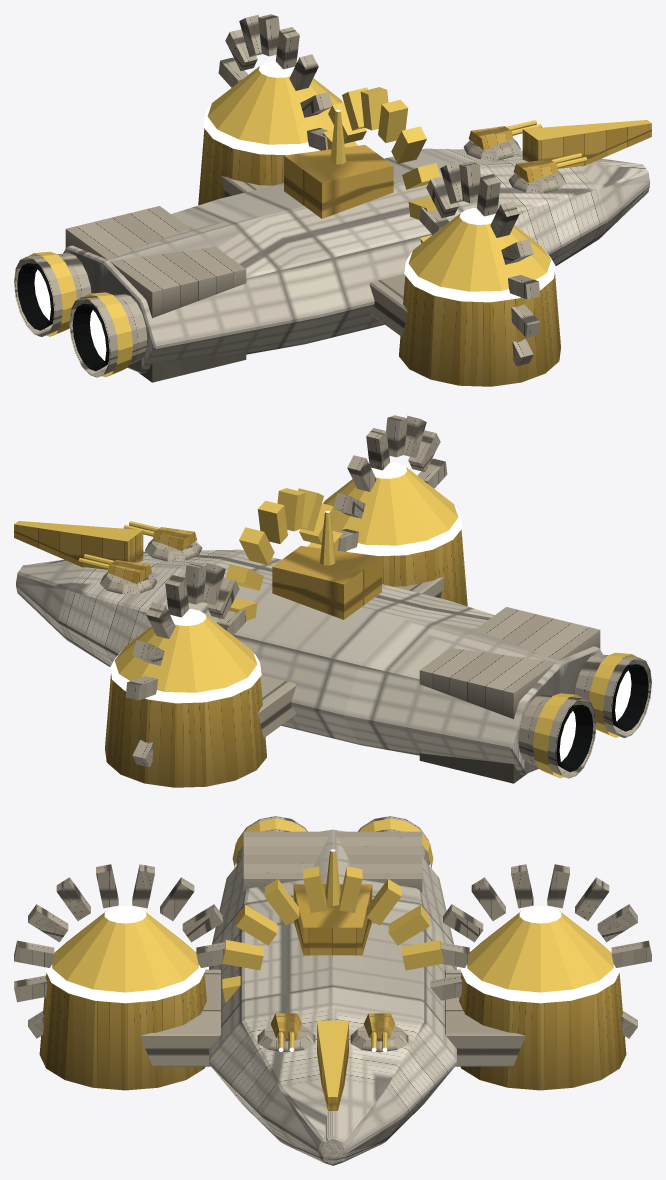
File: interdictor.glb
3 renders of one model, top to bottom at view 1: azimuth 30°, elevation 25°; view 2: azimuth 150°, elevation 25°; view 3: azimuth 270°, elevation 25°, orthographic. The views are drawn at different scales.
Parts seen in each view (by area): view 1: hull_body, shield_domes, engine_block, sensor_tower, weapon_turrets; view 2: hull_body, shield_domes, engine_block, sensor_tower, weapon_turrets; view 3: shield_domes, hull_body, engine_block, sensor_tower, weapon_turrets.
Part boxes in pixels (bbox=[...]): hull_body: bbox=[63, 87, 651, 373]; shield_domes: bbox=[198, 14, 560, 386]; engine_block: bbox=[14, 206, 246, 382]; sensor_tower: bbox=[284, 109, 393, 218]; weapon_turrets: bbox=[463, 120, 587, 193]; hull_body: bbox=[14, 488, 602, 774]; shield_domes: bbox=[105, 415, 467, 787]; engine_block: bbox=[419, 607, 651, 783]; sensor_tower: bbox=[272, 510, 381, 619]; weapon_turrets: bbox=[78, 521, 202, 594]; shield_domes: bbox=[14, 864, 651, 1090]; hull_body: bbox=[140, 829, 525, 1165]; engine_block: bbox=[232, 816, 433, 892]; sensor_tower: bbox=[293, 849, 372, 955]; weapon_turrets: bbox=[257, 1013, 408, 1052].
Size of the model in its own units: 44 by 14.4 by 40.04.
Materials: 1 (1 with a texture image).
